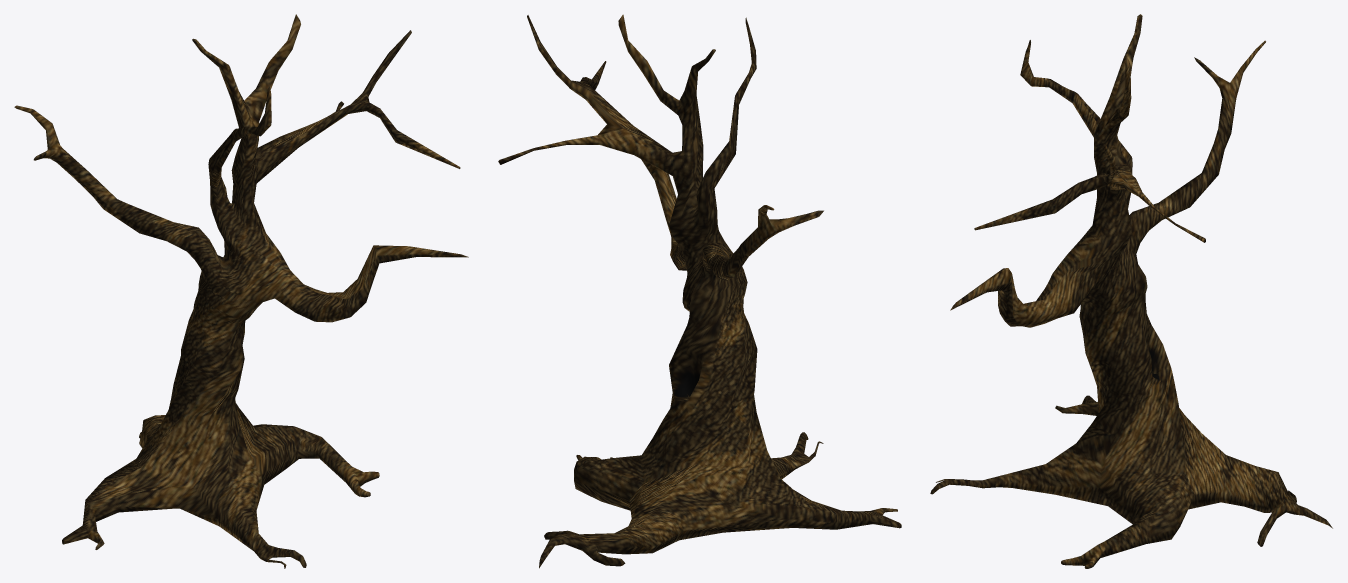
File: arbolmuerto.obj
3 renders of one model, left to right at view 1: azimuth 30°, elevation 25°; view 2: azimuth 150°, elevation 25°; view 3: azimuth 270°, elevation 25°, orthographic. The views are drawn at different scales.
Parts seen in each view (by area): view 1: DeadTree_LoPoly; view 2: DeadTree_LoPoly; view 3: DeadTree_LoPoly.
Part boxes in pixels (bbox=[...]): DeadTree_LoPoly: bbox=[14, 14, 468, 568]; DeadTree_LoPoly: bbox=[498, 14, 901, 568]; DeadTree_LoPoly: bbox=[930, 14, 1332, 568].
Size of the model in its own units: 7.94 by 10.03 by 7.49.
